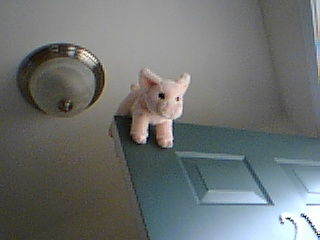piggy: (108, 66, 192, 151)
